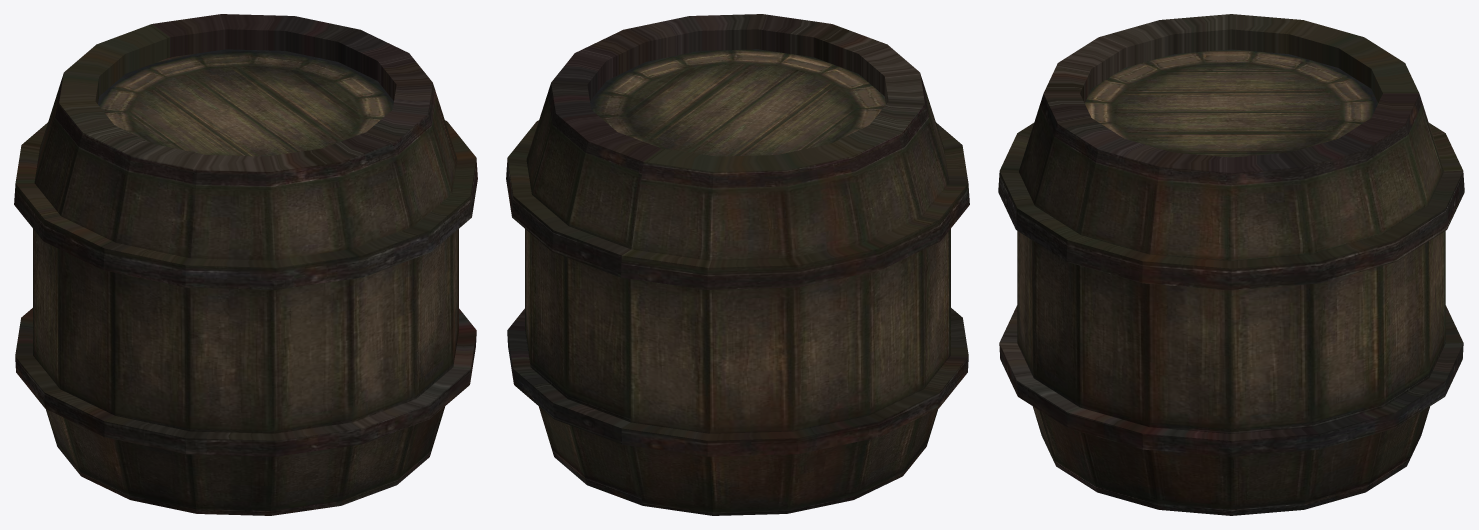
File: barril.fbx
3 renders of one model, left to right at view 1: azimuth 30°, elevation 25°; view 2: azimuth 150°, elevation 25°; view 3: azimuth 270°, elevation 25°, orthographic.
Parts seen in each view (by area): view 1: Cylinder; view 2: Cylinder; view 3: Cylinder.
Part boxes in pixels (box(x1,y1,x2,y2)): Cylinder: box(14, 14, 477, 515); Cylinder: box(506, 14, 969, 515); Cylinder: box(998, 14, 1464, 515).
Size of the model in its own units: 254 by 206 by 254.
1 material, 1 textured.
